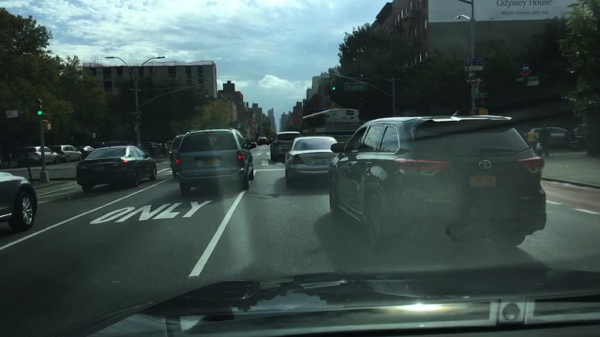bus: (300, 108, 359, 150)
car: (326, 109, 547, 255), (173, 128, 256, 196), (75, 145, 157, 193), (284, 136, 339, 188), (0, 171, 38, 235), (524, 126, 569, 150), (269, 131, 301, 162), (16, 145, 60, 167), (563, 122, 589, 152), (170, 134, 187, 178), (47, 143, 84, 163), (140, 142, 160, 158), (75, 145, 95, 161), (103, 140, 133, 149), (154, 143, 167, 157), (256, 135, 267, 146), (243, 137, 252, 147), (164, 140, 173, 150), (0, 154, 4, 171), (267, 136, 273, 145)
person: (536, 124, 551, 158), (522, 126, 535, 151)
traffic light: (36, 99, 43, 117), (42, 120, 52, 132), (477, 109, 488, 116), (331, 79, 336, 92), (205, 87, 209, 99), (252, 119, 256, 124), (294, 120, 297, 124)
traffic sign: (465, 58, 484, 71), (343, 84, 368, 91), (527, 76, 538, 87), (5, 110, 19, 118), (466, 78, 482, 84), (521, 63, 530, 72), (474, 93, 487, 98), (516, 77, 524, 82), (134, 125, 139, 132), (133, 122, 141, 126), (132, 111, 142, 114), (467, 72, 474, 76)
